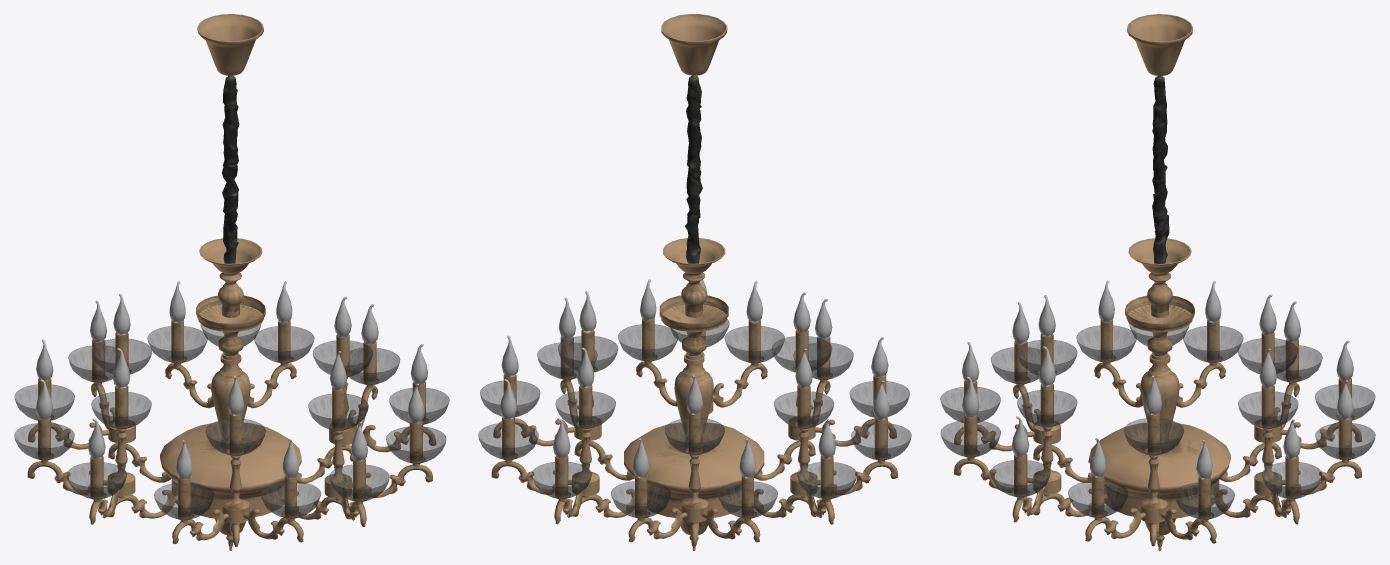
File: lighting_chandelier_03.glb
3 views of the same model, side by side, from view 1: azimuth 30°, elevation 25°; view 2: azimuth 150°, elevation 25°; view 3: azimuth 270°, elevation 25° (orthographic).
Parts seen in each view (by area): view 1: Chandelier_03; view 2: Chandelier_03; view 3: Chandelier_03.
Part boxes in pixels (box(x1,y1,x2,y2)): Chandelier_03: box(14, 14, 449, 550); Chandelier_03: box(478, 14, 911, 550); Chandelier_03: box(940, 14, 1375, 550).
Size of the model in its own units: 0.7804 by 1.04 by 0.7855.
2 materials, 2 textured.
